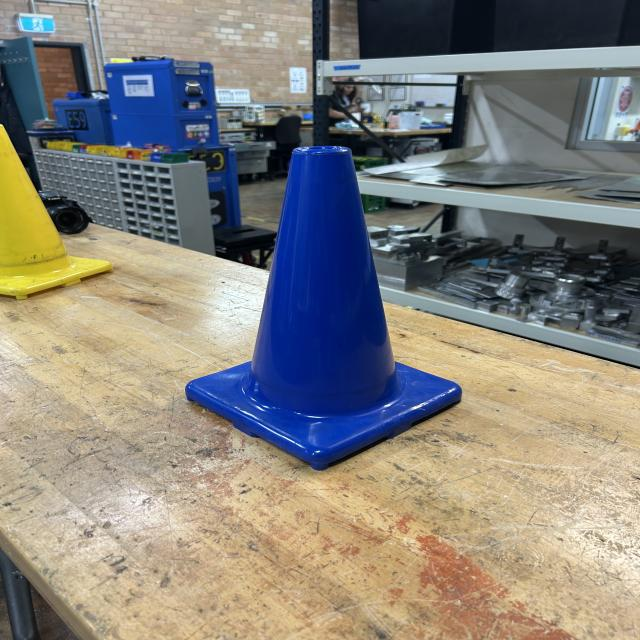blue_cone: (188, 148, 462, 470)
yellow_cone: (0, 124, 111, 298)
